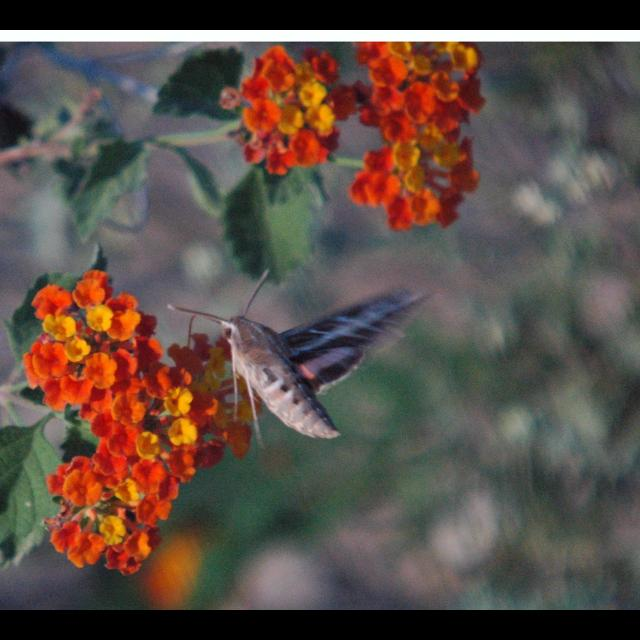Flower: (32, 248, 224, 586), (218, 40, 488, 232)
